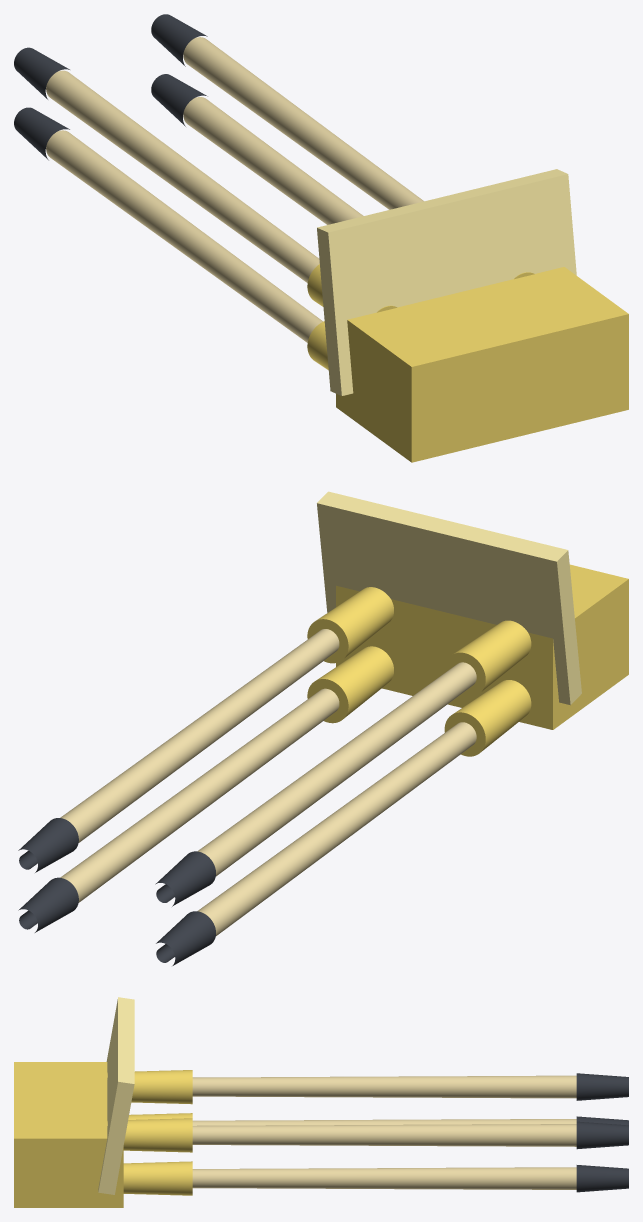
The model's file is Wirbelwind_gun.glb.
3 renders of one model, top to bottom at view 1: azimuth 30°, elevation 25°; view 2: azimuth 150°, elevation 25°; view 3: azimuth 270°, elevation 25°, orthographic. The views are drawn at different scales.
Parts seen in each view (by area): view 1: Wirbelwind_Gun; view 2: Wirbelwind_Gun; view 3: Wirbelwind_Gun.
Boxes of the visible parts, x1,y1,x2,y2 form: Wirbelwind_Gun: [14, 14, 628, 462]; Wirbelwind_Gun: [18, 491, 628, 965]; Wirbelwind_Gun: [14, 997, 628, 1207].
Size of the model in its own units: 0.84 by 0.6043 by 2.58.
